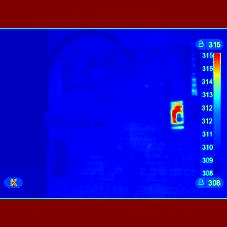Less: (178, 114, 184, 128)
